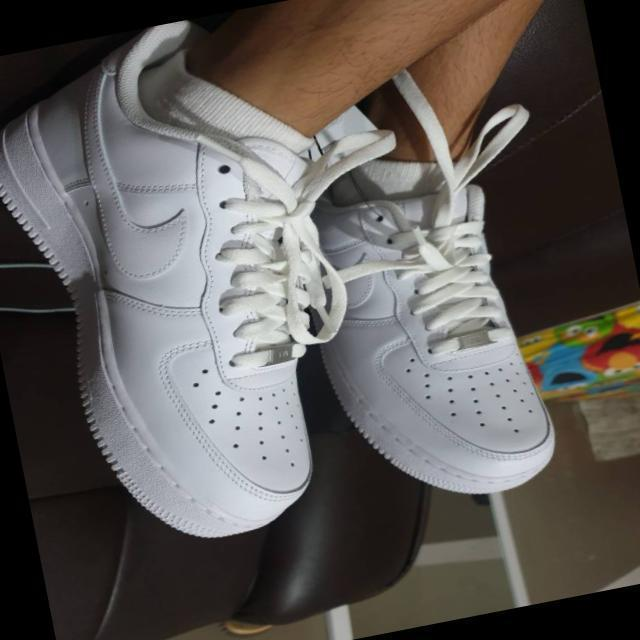nike original air force: (0, 3, 389, 573), (282, 98, 570, 520)
